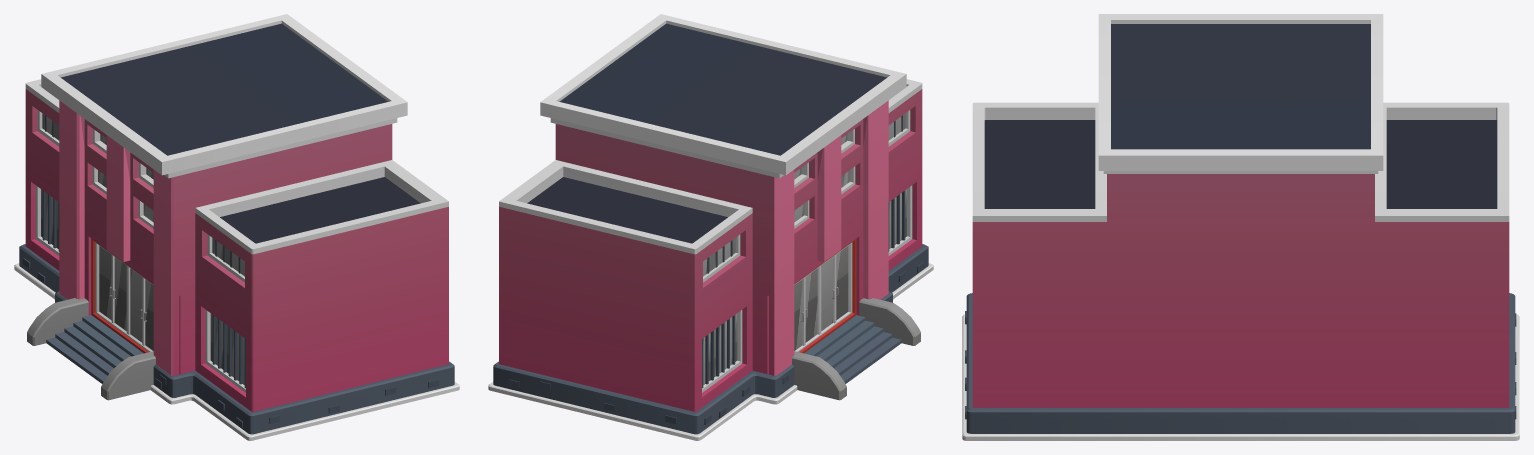
File: Building_14_C.fbx
The picture shows the model from 3 angles, left to right: view 1: azimuth 30°, elevation 25°; view 2: azimuth 150°, elevation 25°; view 3: azimuth 270°, elevation 25°; orthographic projection. The views are drawn at different scales.
Visible parts, largest first — view 1: Building_14_C; view 2: Building_14_C; view 3: Building_14_C.
Boxes of the visible parts, <box> form: Building_14_C: <box>14,14,459,440</box>; Building_14_C: <box>488,14,933,440</box>; Building_14_C: <box>962,14,1519,440</box>.
Bounding box in the file's own units: 908 × 755 × 1325.
